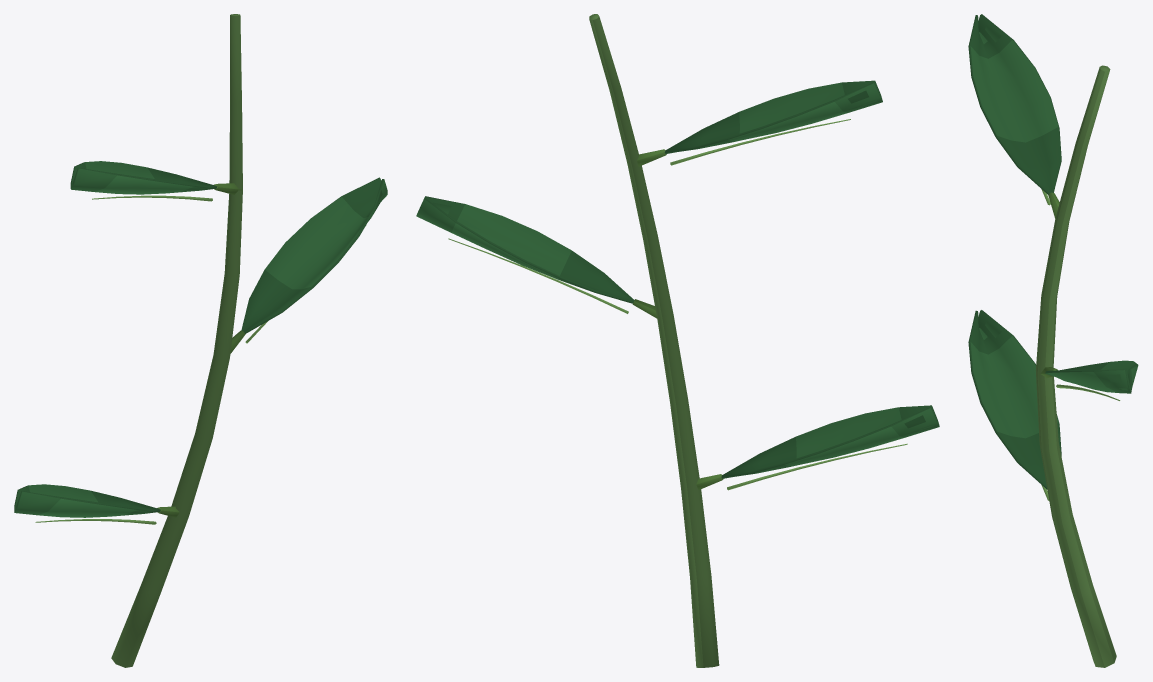
The model's file is garden-zinnia-bloom-stem-2.glb.
3 renders of one model, left to right at view 1: azimuth 30°, elevation 25°; view 2: azimuth 150°, elevation 25°; view 3: azimuth 270°, elevation 25°, orthographic. The views are drawn at different scales.
Parts seen in each view (by area): view 1: zinnia-bloom-stem-2; view 2: zinnia-bloom-stem-2; view 3: zinnia-bloom-stem-2.
Boxes of the visible parts, x1,y1,x2,y2 form: zinnia-bloom-stem-2: (14,14,387,667); zinnia-bloom-stem-2: (416,14,939,667); zinnia-bloom-stem-2: (968,14,1138,667).
Size of the model in its own units: 0.3049 by 0.4064 by 0.0957.
